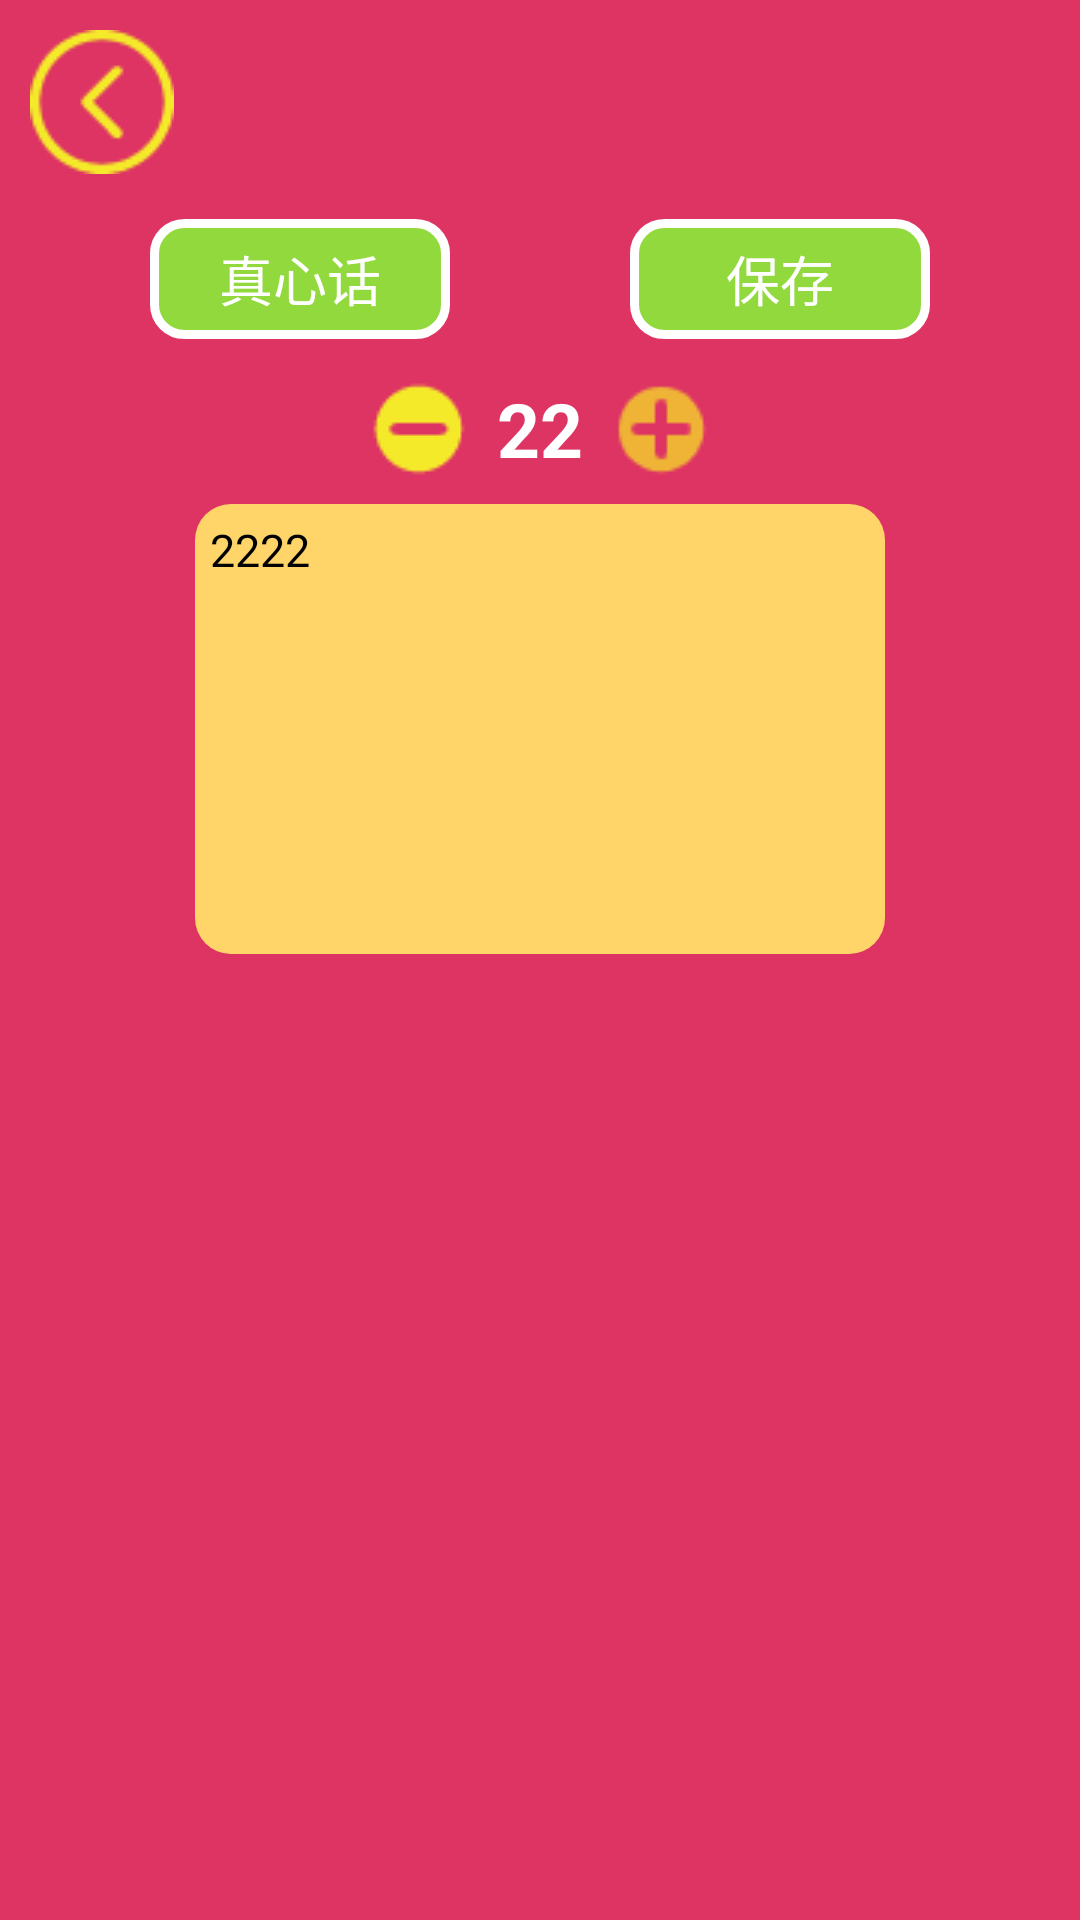

Named icons in this screenshot (1080px x 1920px) and their centers, point (x, y):
add: point (661, 429)
back: point (102, 102)
down: point (418, 429)
